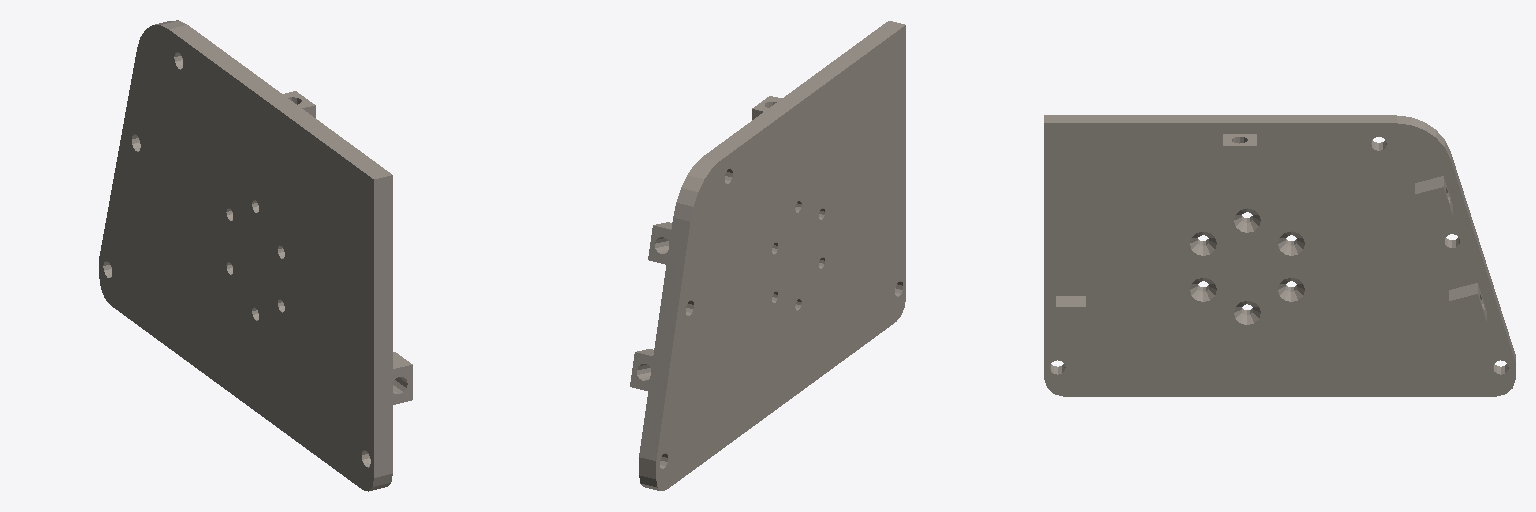
robot.urdf — piper_description:
<?xml version="1.0" encoding="utf-8"?>
<robot name="piper_description">
  <link name="base_link">
    <!-- <inertial>
      <origin xyz="-0.00973928490005031 1.8312708928633E-06 0.0410140167677137" rpy="0 0 0" />
      <mass value="0.162352169522719" />
      <inertia ixx="0.000226592553127906" ixy="-7.33974356968813E-08" ixz="2.13221970218123E-06" iyy="0.000269447877479622" iyz="8.15167478685076E-09" izz="0.000222318286704" />
    </inertial> -->
    <visual>
      <origin xyz="0 0 0" rpy="0 0 0" />
      <geometry>
        <mesh filename="base_link.STL" />
      </geometry>
      <material name="">
        <color rgba="0.792156862745098 0.819607843137255 0.933333333333333 1" />
      </material>
    </visual>
    <collision>
      <origin xyz="0 0 0" rpy="0 0 0" />
      <geometry>
        <mesh filename="base_link.STL" />
      </geometry>
    </collision>
  </link>
  <link name="link1">
    <inertial>
      <origin xyz="0.00131676031927021 0.000310288842008364 -0.00922874512303438" rpy="0 0 0" />
      <mass value="0.0978679932242825" />
      <inertia ixx="7.76684558296781E-05" ixy="1.09084650459916E-07" ixz="-1.97480532432411E-06" iyy="9.24967780161546E-05" iyz="9.91284646834672E-07" izz="8.24589062407806E-05" />
    </inertial>
    <visual>
      <origin xyz="0 0 0" rpy="0 0 0" />
      <geometry>
        <mesh filename="link1.STL" />
      </geometry>
      <material name="">
        <color rgba="0.792156862745098 0.819607843137255 0.933333333333333 1" />
      </material>
    </visual>
    <collision>
      <origin xyz="0 0 0" rpy="0 0 0" />
      <geometry>
        <mesh filename="link1.STL" />
      </geometry>
    </collision>
  </link>
  <joint name="joint1" type="revolute">
    <origin xyz="0 0 0.123" rpy="0 0 -1.5708" />
    <parent link="base_link" />
    <child link="link1" />
    <axis xyz="0 0 1" />
    <limit lower="-2.618" upper="2.618" effort="100" velocity="0" />
  </joint>
  <link name="link2">
    <inertial>
      <origin xyz="0.147615838821413 -0.0174259998251393 0.00175952516190707" rpy="0 0 0" />
      <mass value="0.289571136953082" />
      <inertia ixx="0.000150112628108228" ixy="8.58974959950769E-05" ixz="-1.07428153464285E-06" iyy="0.00172585302855383" iyz="-9.93704792239686E-07" izz="0.00177445942914759" />
    </inertial>
    <visual>
      <origin xyz="0 0 0" rpy="0 0 0" />
      <geometry>
        <mesh filename="link2.STL" />
      </geometry>
      <material name="">
        <color rgba="0.792156862745098 0.819607843137255 0.933333333333333 1" />
      </material>
    </visual>
    <collision>
      <origin xyz="0 0 0" rpy="0 0 0" />
      <geometry>
        <mesh filename="link2.STL" />
      </geometry>
    </collision>
  </link>
  <joint name="joint2" type="revolute">
    <origin xyz="0 0 0" rpy="1.5708 -0.10095 -1.5708" />
    <parent link="link1" />
    <child link="link2" />
    <axis xyz="0 0 1" />
    <limit lower="0" upper="3.14" effort="100" velocity="1" />
  </joint>
  <link name="link3">
    <inertial>
      <origin xyz="0.0156727246030052 0.104466514905741 0.000508486764144372" rpy="0 0 0" />
      <mass value="0.290583247455324" />
      <inertia ixx="0.000221686352136266" ixy="-7.57426543992343E-06" ixz="-6.3700062772173E-07" iyy="0.000100859162015934" iyz="-8.16202696860781E-07" izz="0.000241839316548946" />
    </inertial>
    <visual>
      <origin xyz="0 0 0" rpy="0 0 0" />
      <geometry>
        <mesh filename="link3.STL" />
      </geometry>
      <material name="">
        <color rgba="0.792156862745098 0.819607843137255 0.933333333333333 1" />
      </material>
    </visual>
    <collision>
      <origin xyz="0 0 0" rpy="0 0 0" />
      <geometry>
        <mesh filename="link3.STL" />
      </geometry>
    </collision>
  </link>
  <joint name="joint3" type="revolute">
    <origin xyz="0.28503 0 0" rpy="0 0 1.3826" />
    <parent link="link2" />
    <child link="link3" />
    <axis xyz="0 0 1" />
    <limit lower="-2.967" upper="0" effort="100" velocity="1" />
  </joint>
  <link name="link4">
    <inertial>
      <origin xyz="0.000276464622388145 -0.00102803669324853 -0.00472830700561612" rpy="0 0 0" />
      <mass value="0.127087348341362" />
      <inertia ixx="3.82011730423098E-05" ixy="-4.92358351033589E-08" ixz="4.89589432983109E-08" iyy="4.87048555222491E-05" iyz="6.70802942486707E-08" izz="4.10592077565155E-05" />
    </inertial>
    <visual>
      <origin xyz="0 0 0" rpy="0 0 0" />
      <geometry>
        <mesh filename="link4.STL" />
      </geometry>
      <material name="">
        <color rgba="0.792156862745098 0.819607843137255 0.933333333333333 1" />
      </material>
    </visual>
    <collision>
      <origin xyz="0 0 0" rpy="0 0 0" />
      <geometry>
        <mesh filename="link4.STL" />
      </geometry>
    </collision>
  </link>
  <joint name="joint4" type="revolute">
    <origin xyz="0.021984 0.25075 0" rpy="-1.5708 0 0" />
    <parent link="link3" />
    <child link="link4" />
    <axis xyz="0 0 -1" />
    <limit lower="-1.832" upper="1.832" effort="100" velocity="1" />
  </joint>
  <link name="link5">
    <inertial>
      <origin xyz="8.82261259100015E-05 0.056682908434204 -0.00196119077436732" rpy="0 0 0" />
      <mass value="0.144711209371719" />
      <inertia ixx="4.39644269159173E-05" ixy="-3.59214840853815E-08" ixz="-1.89785003257649E-08" iyy="5.63173857792457E-05" iyz="-2.15407623722543E-07" izz="4.88713595021005E-05" />
    </inertial>
    <visual>
      <origin xyz="0 0 0" rpy="0 0 0" />
      <geometry>
        <mesh filename="link5.STL" />
      </geometry>
      <material name="">
        <color rgba="0.792156862745098 0.819607843137255 0.933333333333333 1" />
      </material>
    </visual>
    <collision>
      <origin xyz="0 0 0" rpy="0 0 0" />
      <geometry>
        <mesh filename="link5.STL" />
      </geometry>
    </collision>
  </link>
  <joint name="joint5" type="revolute">
    <origin xyz="0 0 0" rpy="1.5708 -0.087266 0" />
    <parent link="link4" />
    <child link="link5" />
    <axis xyz="0 0 1" />
    <limit lower="-1.22" upper="1.22" effort="100" velocity="1" />
  </joint>

    <link
    name="link6">
    <inertial>
      <origin
        xyz="9.41121070072333E-09 0.000341209775988838 0.0342122921883722"
        rpy="0 0 0" />
      <mass
        value="0.343994800085961" />
      <inertia
        ixx="0.000182600116684262"
        ixy="2.46392506827528E-05"
        ixz="-7.00564092982362E-07"
        iyy="0.000401754729583113"
        iyz="-4.89213128676282E-07"
        izz="0.000582081046924283" />
    </inertial>
    <visual>
      <origin
        xyz="0 0 0"
        rpy="0 0 0" />
      <geometry>
        <mesh
          filename="linkjoint.STL" />
      </geometry>
      <material
        name="">
        <color
          rgba="0.647058823529412 0.619607843137255 0.588235294117647 1" />
      </material>
    </visual>
    <collision>
      <origin
        xyz="0 0 0"
        rpy="0 0 0" />
      <geometry>
        <mesh
          filename="linkjoint.STL" />
      </geometry>
    </collision>
  </link>
  <joint
    name="joint6"
    type="revolute">
    <origin
      xyz="0 0.091 0.0014165"
      rpy="-1.5708 -1.5708 0" />
    <parent
      link="link5" />
    <child
      link="link6" />
    <axis
      xyz="0 0 -1" />
    <limit
      lower="-3.14"
      upper="3.14"
      effort="100"
      velocity="1" />
  </joint>

</robot>

--- Render facts (derived) ---
3 views of the same robot in one strip: view 1: azimuth 30°, elevation 25°; view 2: azimuth 150°, elevation 25°; view 3: azimuth 270°, elevation 25° (orthographic).
Robot: piper_description — 7 links, 6 joints (6 revolute); root link base_link; default pose: all joints at 0.
Links seen in each view (by area): view 1: link6; view 2: link6; view 3: link6.
Boxes of the visible links, x1,y1,x2,y2 form: link6: (99, 20, 412, 491); link6: (630, 21, 905, 490); link6: (1044, 115, 1515, 396).
Size in the robot's own frame: 0.012 by 0.125 by 0.08 metres.
1 mesh visuals loaded from 7 distinct referenced files (1 binary STL); not drawn: 6 (reference not matched to a file when rendering).